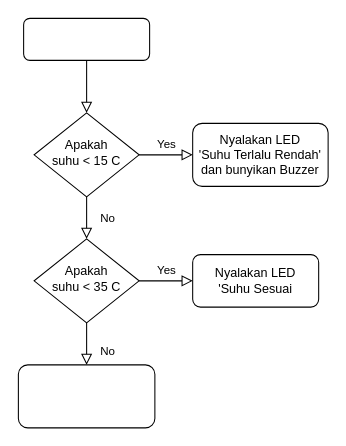
Some shapes in this 346 by 446 pixel diagram are drawn without their labels. The shapes that lost their labels are listed below. From the top down, each one's centre as x and y in pixels, then its label:
the point at 86,38: Proses sebelumnya
the point at 86,396: Nyalakan LED 'Suhu Terlalu Tinggi' dan bunyikan Buzzer
